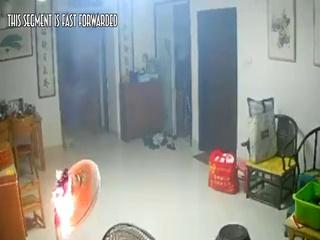Fire: (48, 144, 102, 234)
